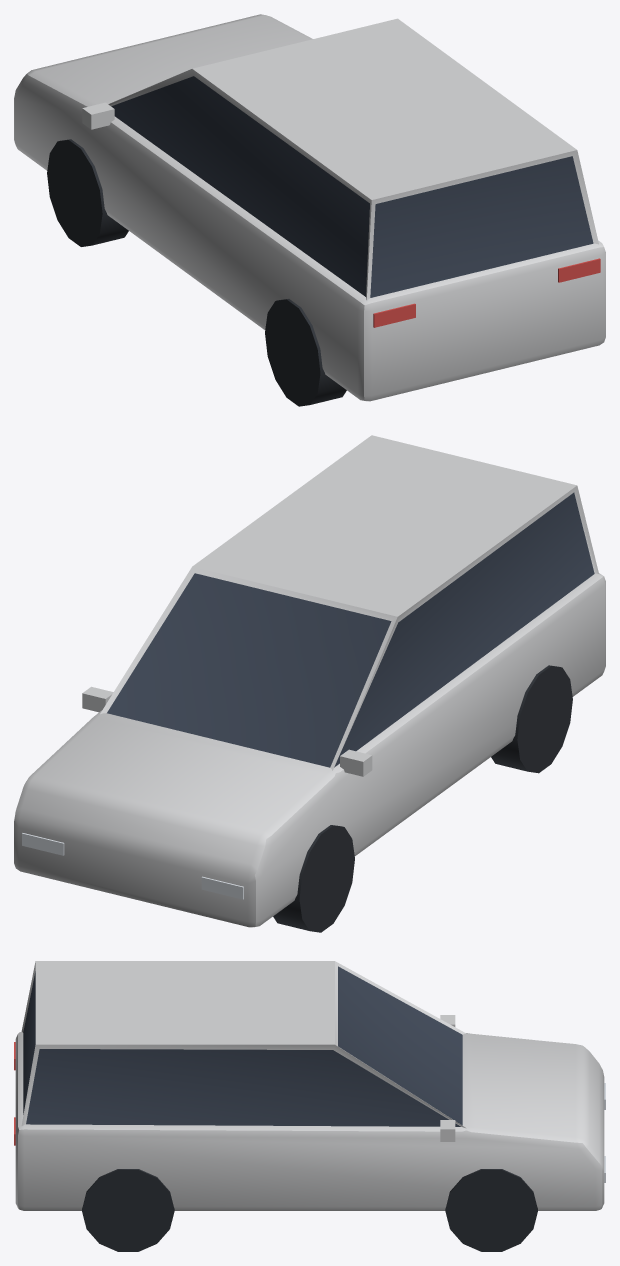
Rendered from ego_car.glb.
3 renders of one model, top to bottom at view 1: azimuth 30°, elevation 25°; view 2: azimuth 150°, elevation 25°; view 3: azimuth 270°, elevation 25°, orthographic. The views are drawn at different scales.
Parts seen in each view (by area): view 1: Body; view 2: Body; view 3: Body.
Boxes of the visible parts, box(x1,y1,x2,y2) form: Body: box(14, 14, 605, 406); Body: box(14, 435, 605, 932); Body: box(14, 961, 605, 1251).
Bounding box in the file's own units: 2.16 × 1.74 × 4.72.
